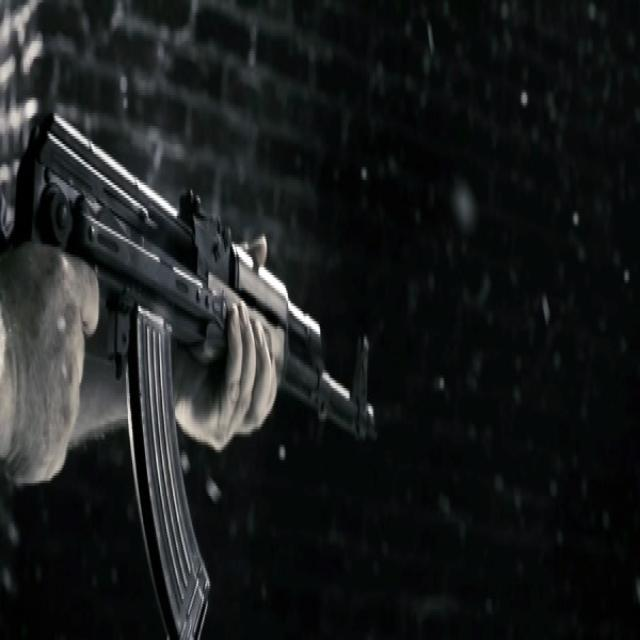rifle: (16, 104, 385, 640)
